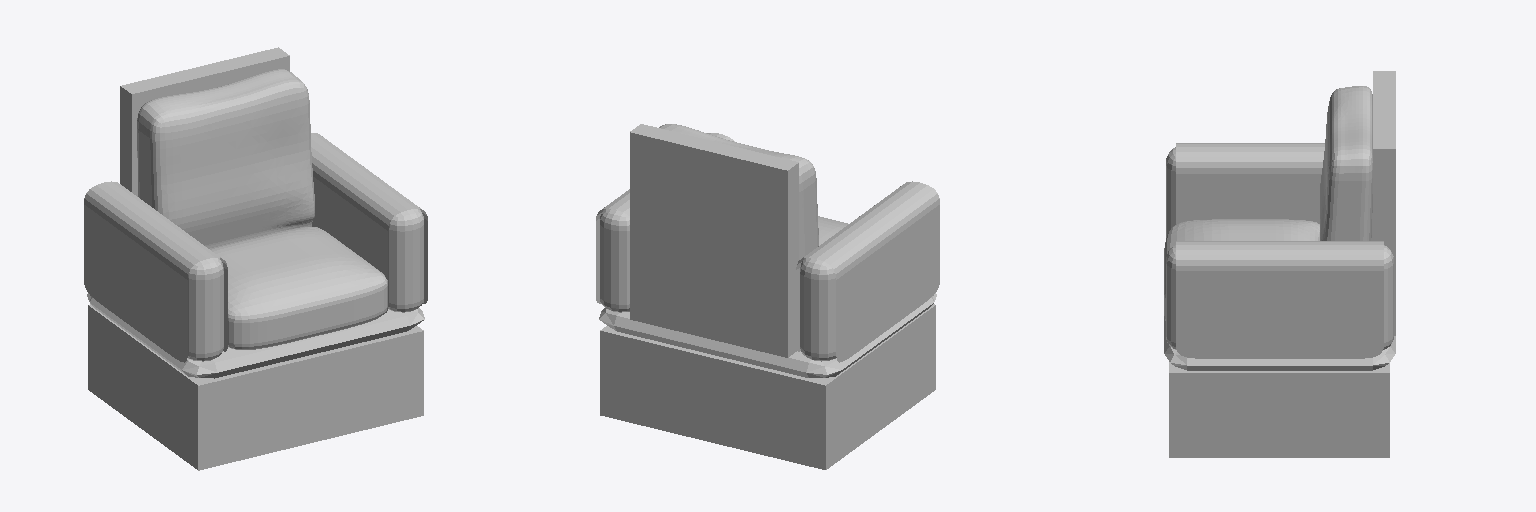
The model's file is Couch chair.obj.
The picture shows the model from 3 angles: view 1: azimuth 30°, elevation 25°; view 2: azimuth 150°, elevation 25°; view 3: azimuth 270°, elevation 25°; orthographic projection.
Visible parts, largest first — view 1: Cube.008_Cube.011, Cube.005, Cube.004, Cube.002_Cube.008, Cube.007_Cube.009, Cube.006, Cube.003, Cube, Cube.001; view 2: Cube.003, Cube.008_Cube.011, Cube.002_Cube.008, Cube.007_Cube.009, Cube, Cube.001, Cube.005, Cube.006; view 3: Cube.006, Cube.008_Cube.011, Cube.005, Cube.002_Cube.008, Cube.001, Cube.007_Cube.009, Cube.003, Cube.004, Cube.
Boxes of the visible parts, x1,y1,x2,y2 form: Cube.008_Cube.011: [88, 304, 423, 470]; Cube.005: [137, 69, 314, 247]; Cube.004: [208, 227, 387, 349]; Cube.002_Cube.008: [84, 181, 227, 362]; Cube.007_Cube.009: [95, 220, 223, 361]; Cube.006: [311, 133, 427, 312]; Cube.003: [120, 47, 289, 196]; Cube: [87, 293, 424, 378]; Cube.001: [312, 186, 423, 312]; Cube.003: [630, 124, 798, 357]; Cube.008_Cube.011: [600, 304, 935, 469]; Cube.002_Cube.008: [796, 181, 939, 362]; Cube.007_Cube.009: [800, 213, 928, 361]; Cube: [599, 293, 936, 377]; Cube.001: [600, 209, 629, 312]; Cube.005: [659, 124, 818, 259]; Cube.006: [596, 133, 734, 303]; Cube.006: [1176, 241, 1383, 358]; Cube.008_Cube.011: [1169, 362, 1389, 457]; Cube.005: [1320, 86, 1372, 240]; Cube.002_Cube.008: [1176, 143, 1372, 240]; Cube.001: [1166, 245, 1393, 349]; Cube.007_Cube.009: [1166, 147, 1320, 237]; Cube.003: [1373, 71, 1395, 335]; Cube.004: [1164, 219, 1319, 320]; Cube: [1164, 316, 1395, 370].
Bounding box in the file's own units: 1.2 × 1.4 × 1.